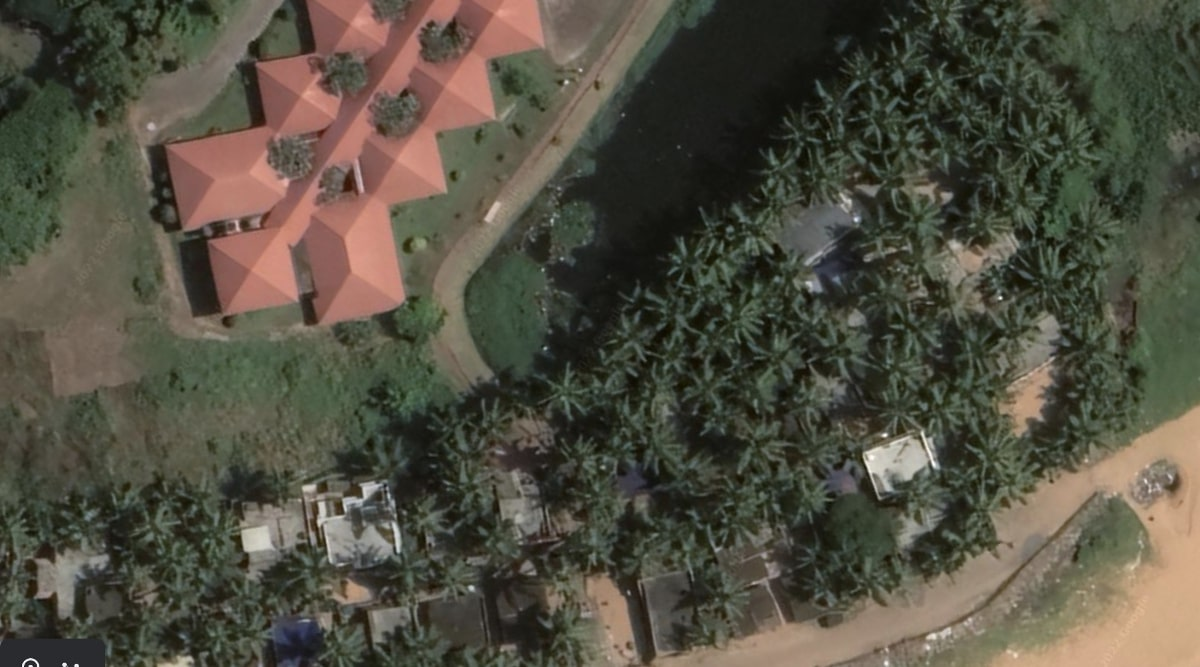coconut: (1014, 248, 1079, 310), (189, 504, 252, 566), (358, 437, 419, 488), (995, 176, 1050, 230), (887, 311, 945, 360), (532, 601, 595, 644), (635, 424, 685, 478), (1064, 205, 1114, 259), (877, 130, 941, 172), (643, 285, 703, 329), (775, 101, 832, 147), (691, 560, 747, 606), (924, 118, 978, 165), (129, 499, 183, 546), (814, 130, 875, 171), (735, 426, 785, 476), (910, 57, 963, 103), (385, 624, 444, 665), (616, 530, 673, 572), (585, 480, 629, 534), (1052, 112, 1101, 160), (470, 400, 522, 445), (475, 518, 525, 564), (62, 498, 109, 546), (857, 273, 903, 322), (952, 323, 996, 374), (1056, 282, 1107, 326), (812, 78, 865, 120), (634, 371, 688, 412), (753, 335, 801, 381), (566, 431, 606, 486), (814, 327, 864, 371), (315, 623, 368, 664), (713, 474, 757, 523), (146, 539, 195, 583), (875, 390, 924, 433), (893, 473, 947, 512), (437, 465, 487, 507), (955, 46, 1005, 88), (957, 204, 1008, 245), (286, 546, 334, 589), (124, 610, 174, 651), (966, 434, 1017, 474), (690, 207, 734, 253), (789, 474, 836, 517), (385, 546, 428, 593), (429, 406, 472, 453), (835, 48, 894, 82), (734, 209, 774, 259), (789, 390, 843, 427), (909, 536, 964, 572), (736, 368, 781, 411), (402, 497, 445, 542), (719, 295, 765, 337), (433, 553, 476, 597), (198, 621, 239, 667), (875, 354, 922, 394), (614, 314, 658, 356), (925, 389, 970, 430), (858, 91, 909, 127), (986, 7, 1040, 41), (762, 147, 811, 184), (1053, 418, 1096, 460), (991, 302, 1034, 344), (1013, 118, 1056, 160), (234, 617, 276, 660), (1024, 67, 1070, 106), (217, 580, 265, 617), (910, 1, 971, 30), (899, 196, 942, 237), (660, 241, 707, 276), (686, 368, 723, 412), (683, 332, 730, 366), (653, 335, 696, 372), (966, 496, 1002, 539), (1069, 366, 1104, 410), (755, 185, 800, 219), (797, 432, 843, 465), (946, 97, 991, 129), (671, 458, 710, 494), (804, 574, 848, 605), (552, 367, 586, 407), (257, 585, 294, 619), (604, 352, 642, 385), (795, 540, 834, 570)
